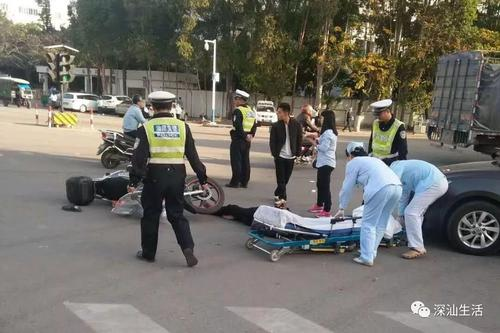10+: (109, 74, 458, 272)
down: (191, 189, 311, 244)
